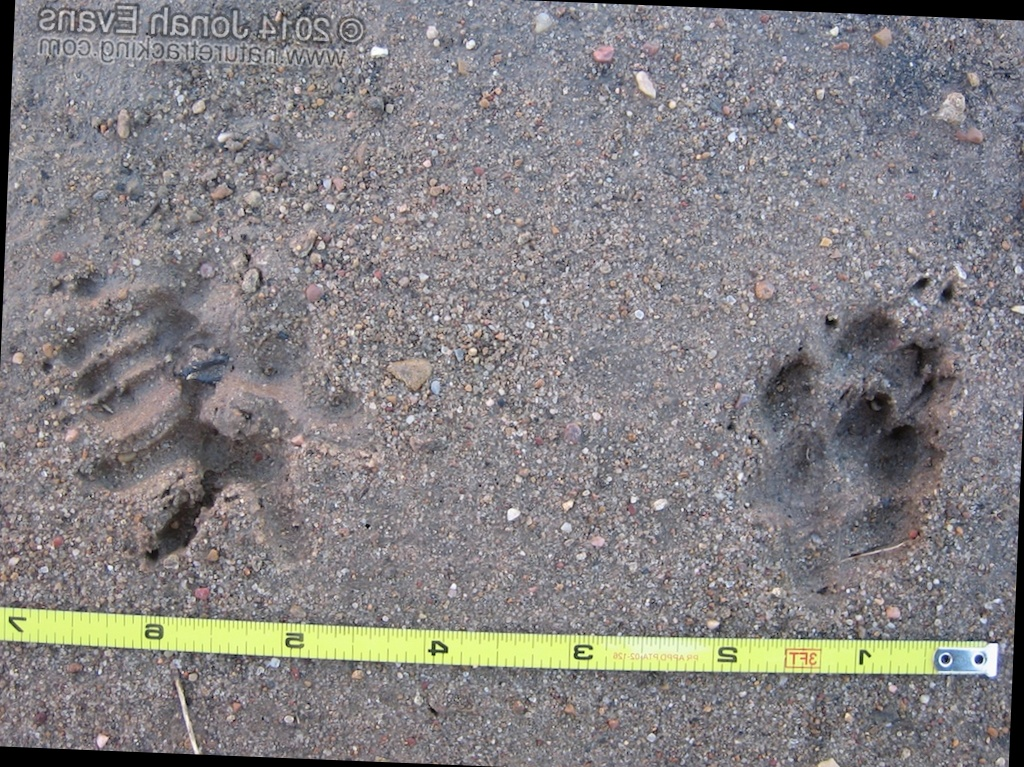fox: (32, 232, 393, 609), (705, 260, 1016, 668)
